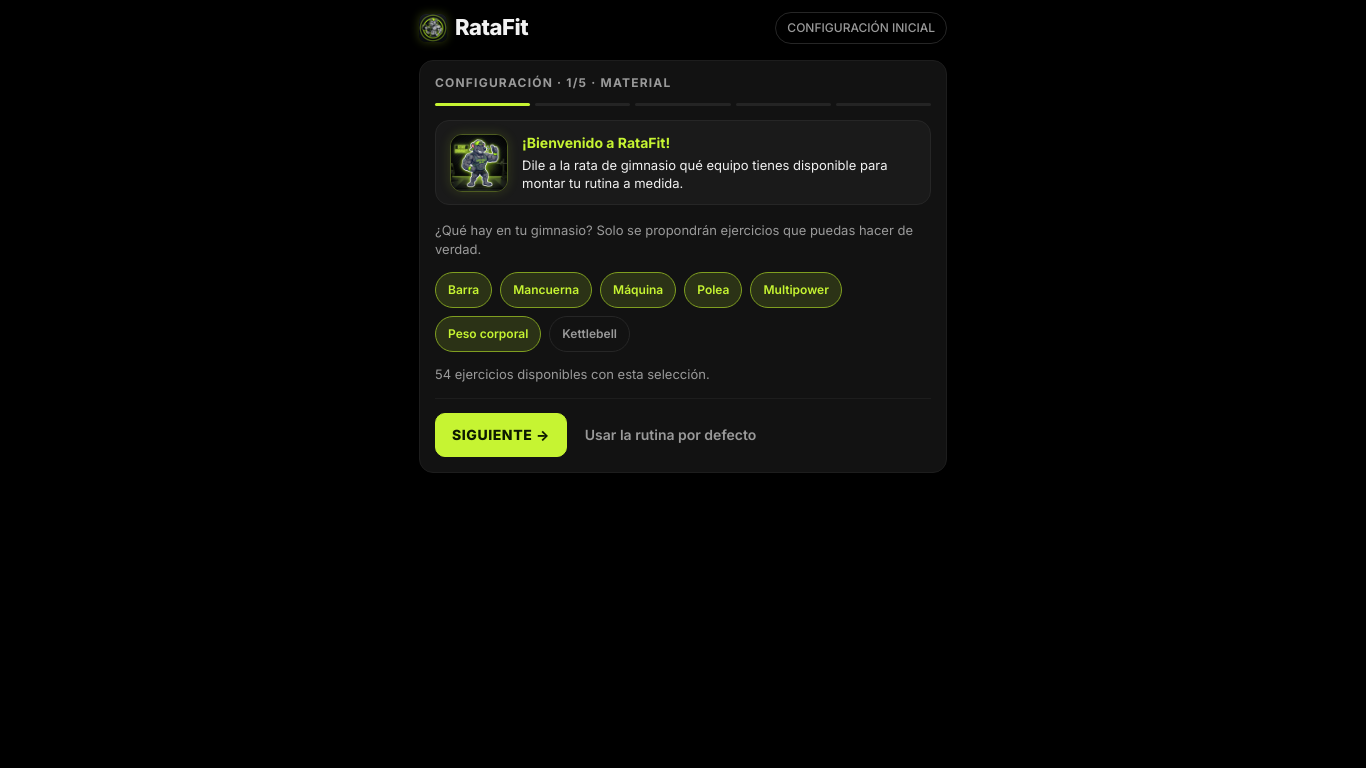
Scenario: cuestionario inicial › permite saltarlo y quedarse con la rutina por defecto
Click the button "Usar la rutina por defecto": (671,435) [575,413,766,457]
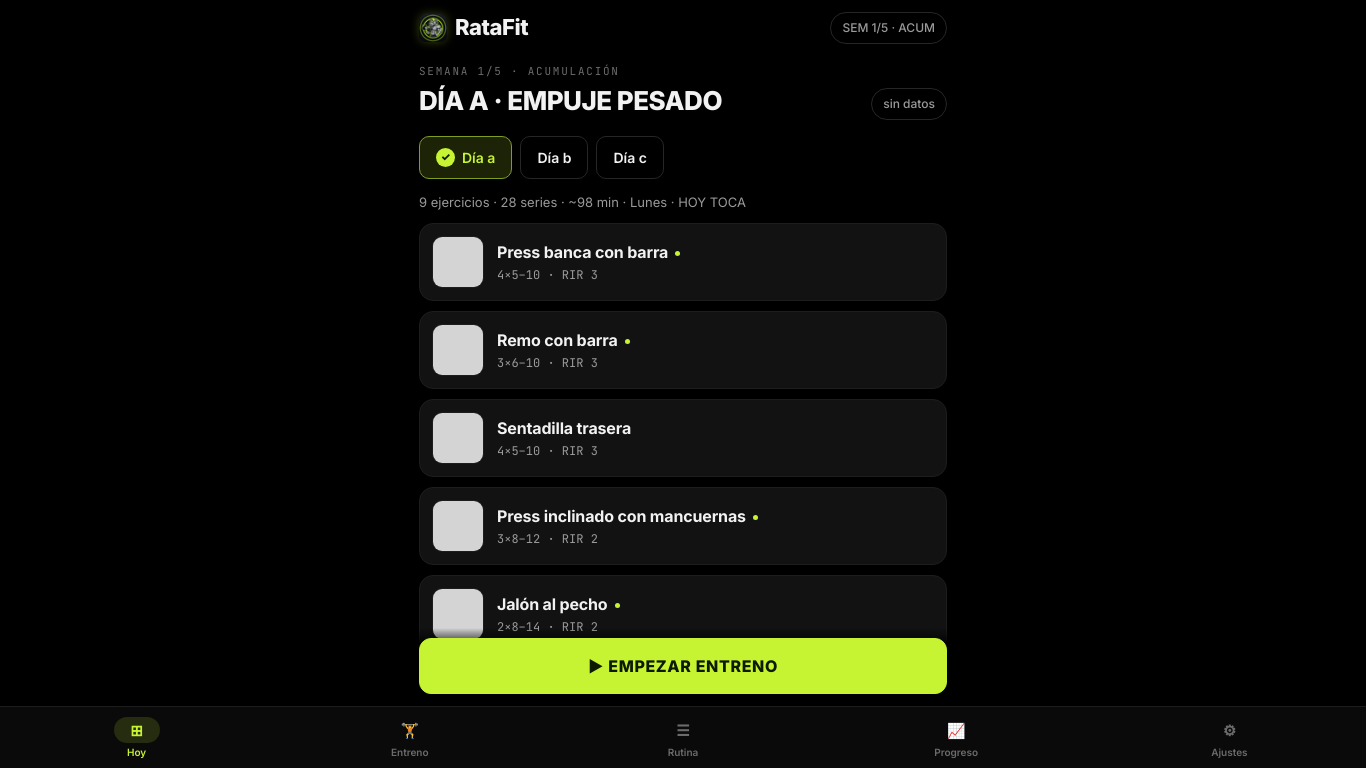
Result: the navigation bar named "Secciones" is shown at [0,706,1365,767]
Click the button with aria-label "Ir a Rutina": (683,738) [546,711,820,764]
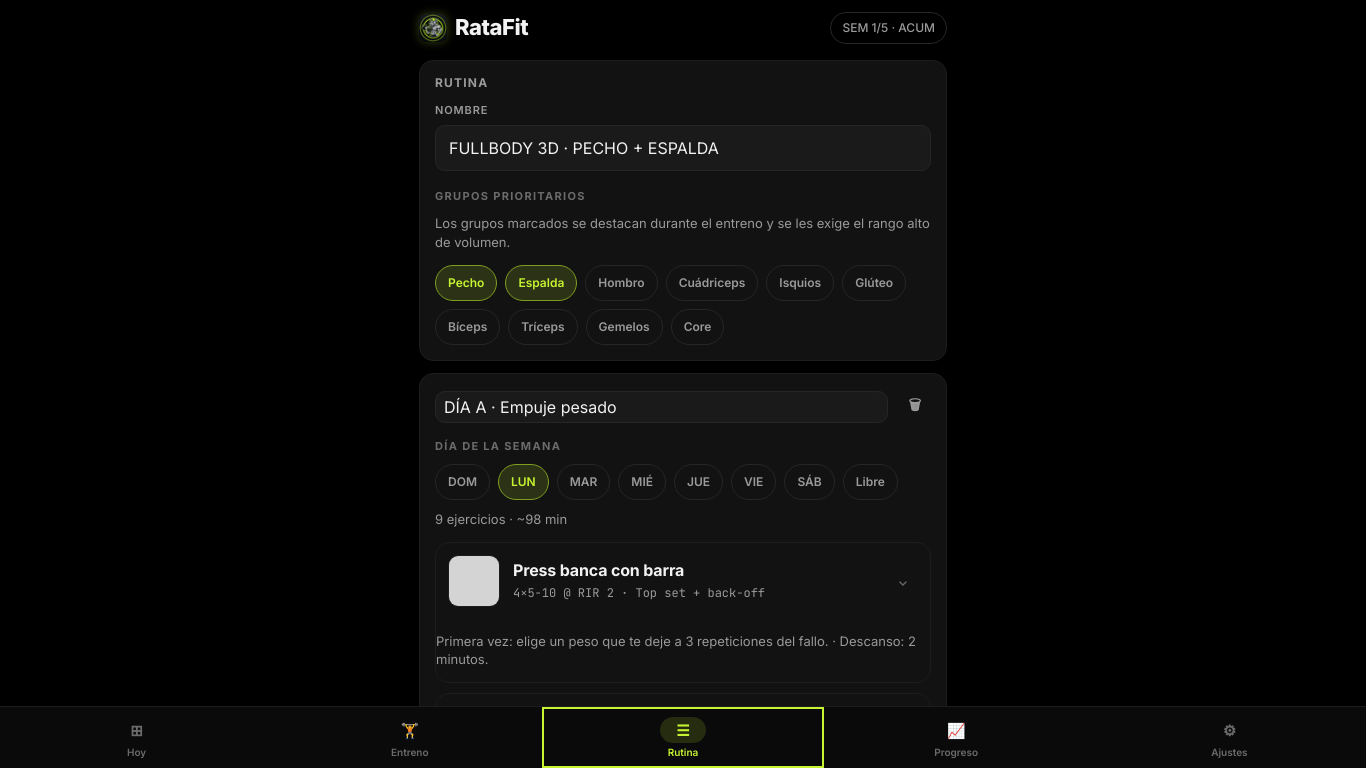
Result: the field labelled "Nombre" holds "FULLBODY 3D · PECHO + ESPALDA" at [435,125,931,171]
